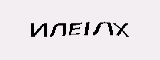І: (81, 19, 92, 38)
Е: (67, 20, 83, 36)
И: (28, 20, 48, 38)
Л: (92, 21, 115, 38), (50, 23, 68, 38)
Х: (112, 21, 130, 38)
